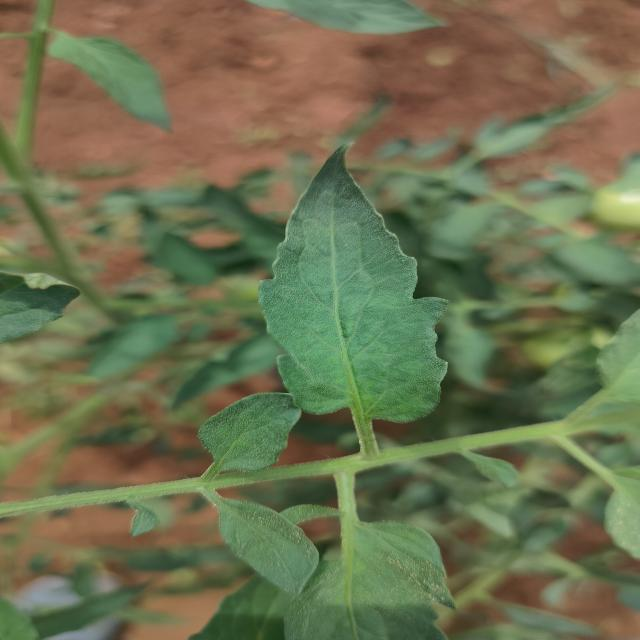tomato_healthy: (262, 140, 454, 432)
